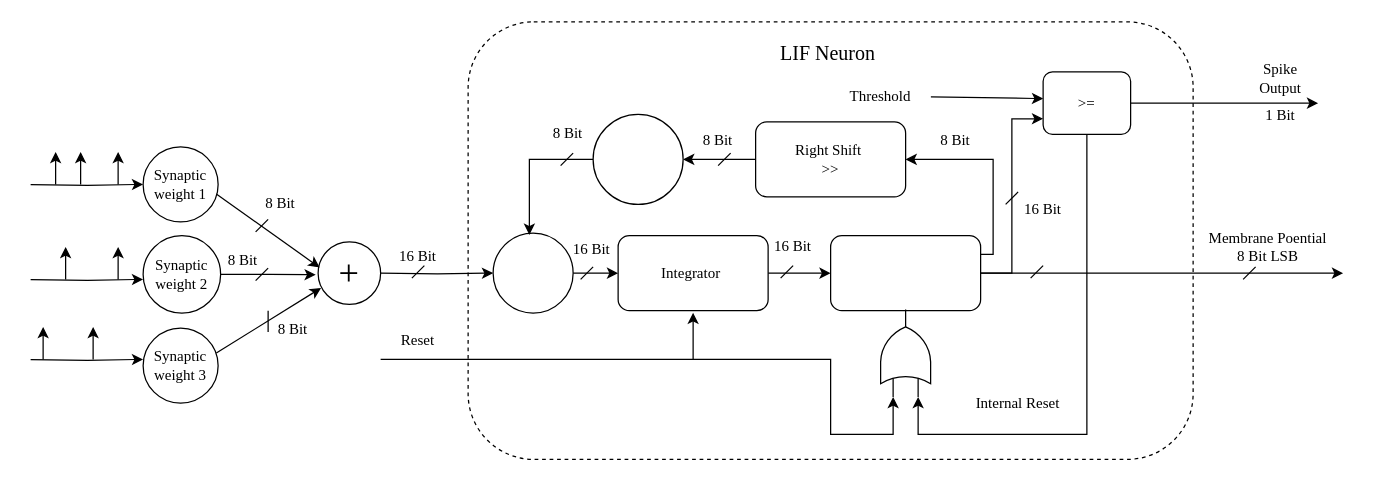
Image size: 1375x481. Some labels were removed from this diagram. The shapes that lost their labels are listed below. From the top down, each one's centre as x and y in pixels, then its label:
At point (637, 158): "2's Compliment".
At point (532, 272): "Adder".
At point (905, 272): "Membrane Potential Register".
